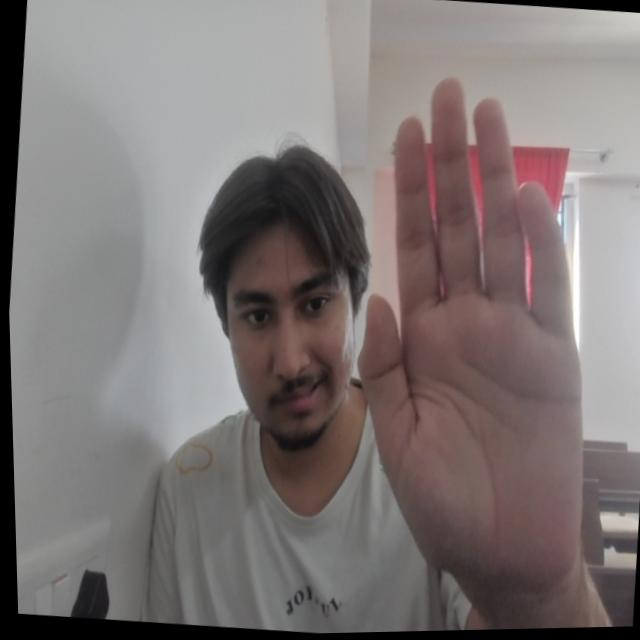hello: (328, 66, 623, 599)
